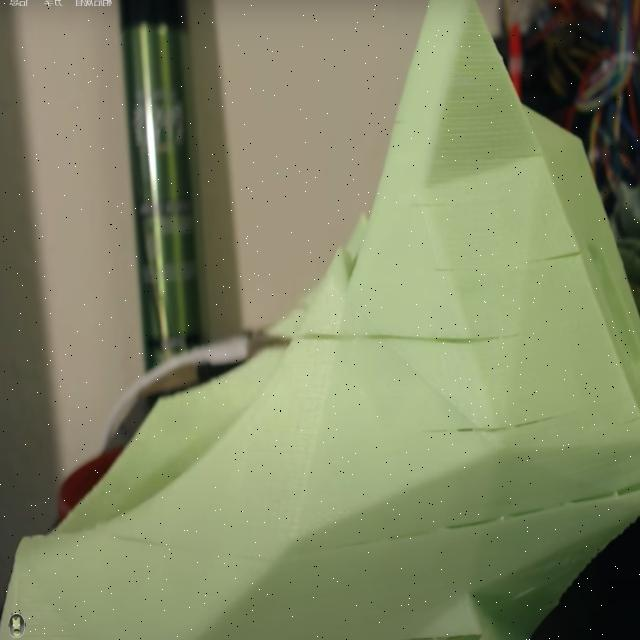cracks: (363, 473, 640, 568), (280, 322, 494, 373), (538, 238, 586, 276), (394, 621, 489, 640)
